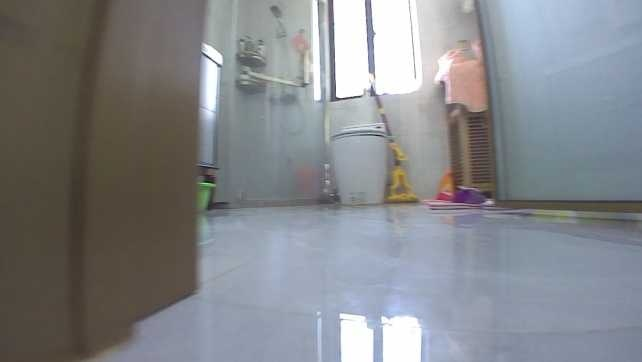slipper: (428, 185, 494, 209)
toilet: (329, 120, 391, 205)
